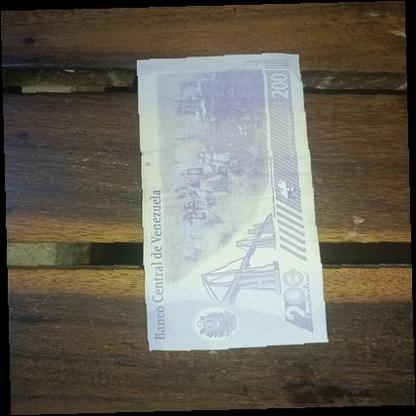vef_back: (136, 53, 328, 351)
